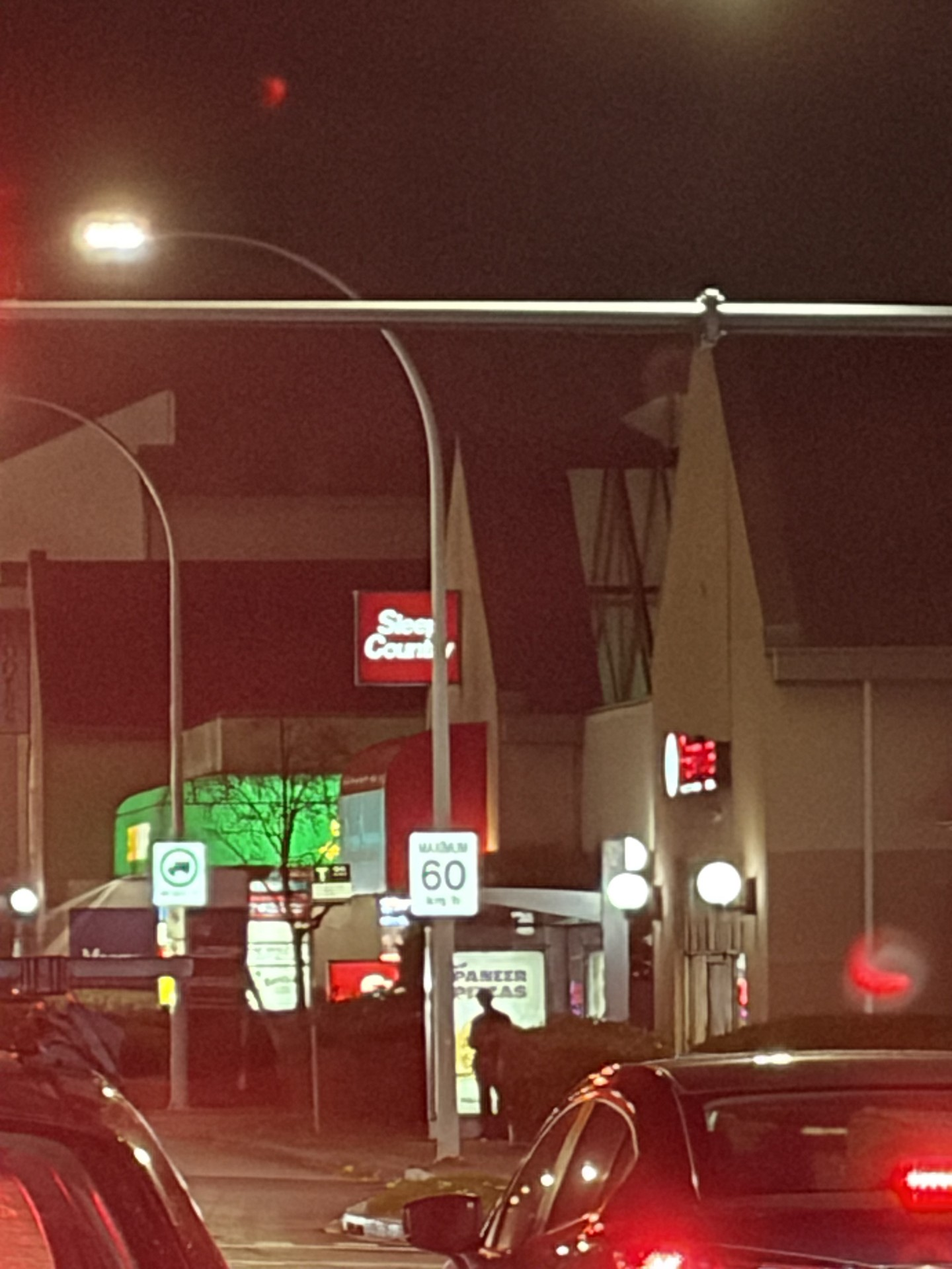speed_limit: (380, 806, 499, 928)
